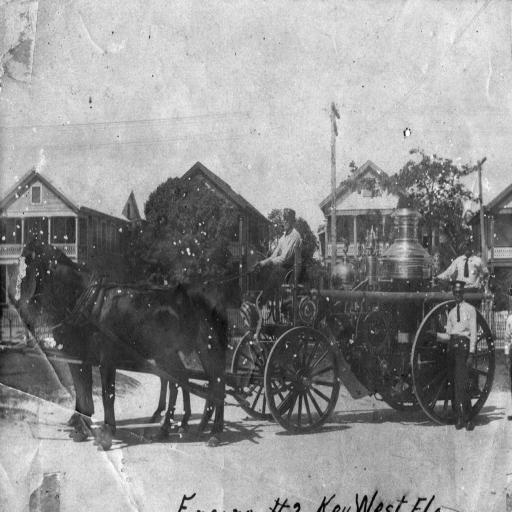horse: (16, 256, 230, 448), (8, 238, 190, 436)
